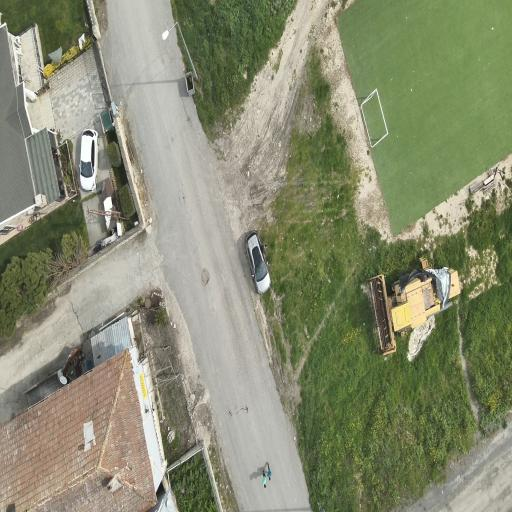car: (246, 231, 270, 293), (80, 129, 98, 191)
harvester: (370, 258, 460, 355)
person: (266, 463, 271, 481), (263, 470, 266, 488), (263, 243, 267, 253)
